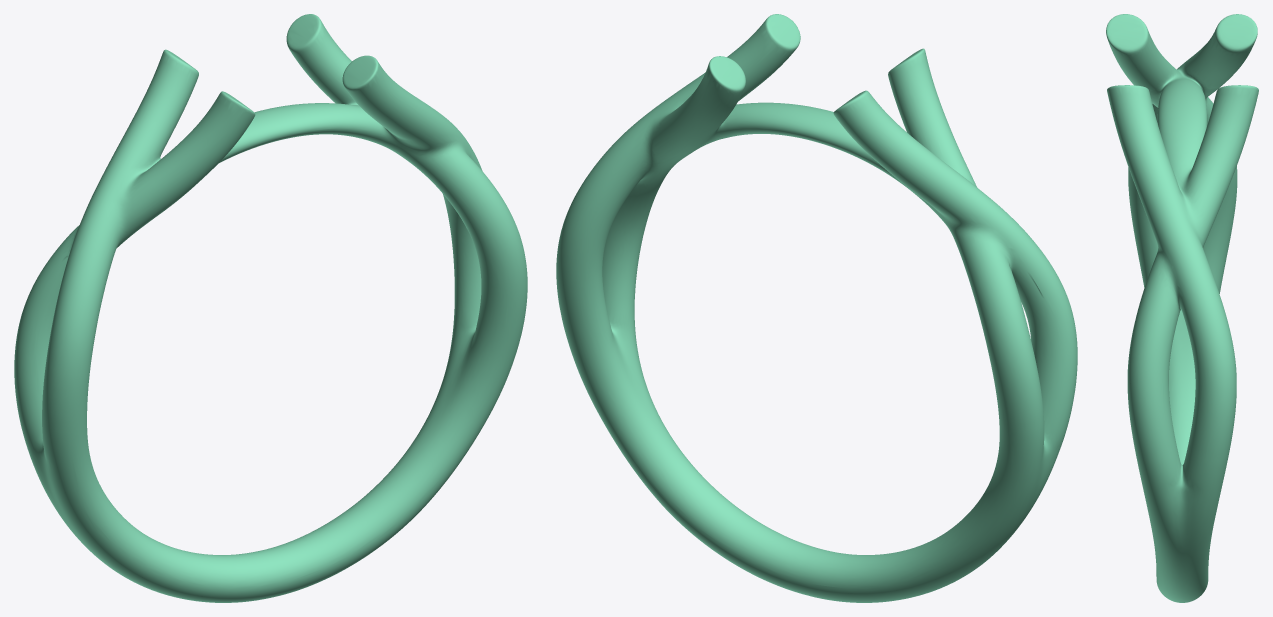
3 views of the same model, side by side, from view 1: azimuth 30°, elevation 25°; view 2: azimuth 150°, elevation 25°; view 3: azimuth 270°, elevation 25° (orthographic). The views are drawn at different scales.
Parts seen in each view (by area): view 1: Metal02; view 2: Metal02; view 3: Metal02.
Boxes of the visible parts, bbox=[...] form: Metal02: bbox=[14, 14, 527, 602]; Metal02: bbox=[556, 14, 1077, 602]; Metal02: bbox=[1106, 14, 1258, 602].
Bounding box in the file's own units: 21.11 × 22.52 × 5.91.
